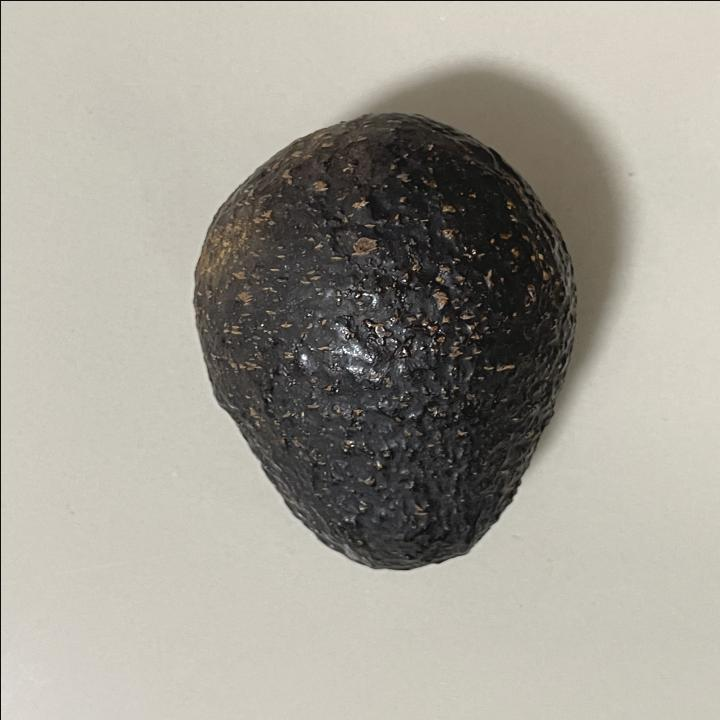Level2: (180, 102, 586, 580)
